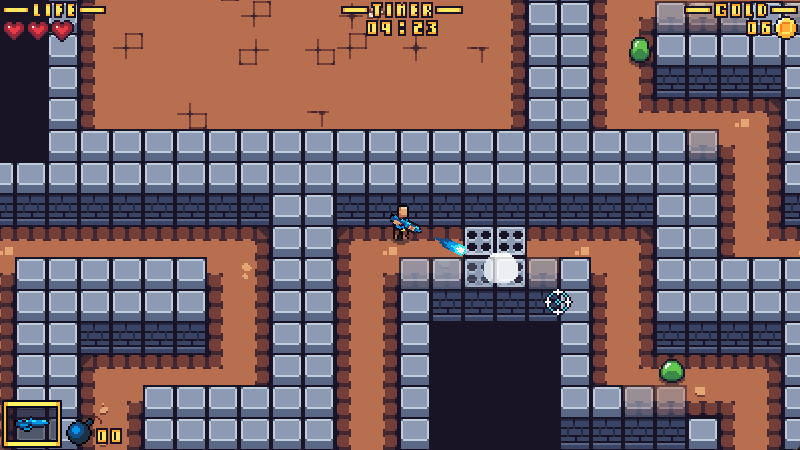enemy_slug: (658, 357, 685, 382), (627, 36, 650, 62)
enemy_slug_hit: (482, 249, 520, 285)
gold_counter: (687, 1, 800, 40)
health: (1, 18, 77, 41)
player: (389, 206, 420, 240)
shoot: (435, 237, 469, 258)
timer: (339, 1, 462, 37)
trap_off: (465, 226, 527, 289)
